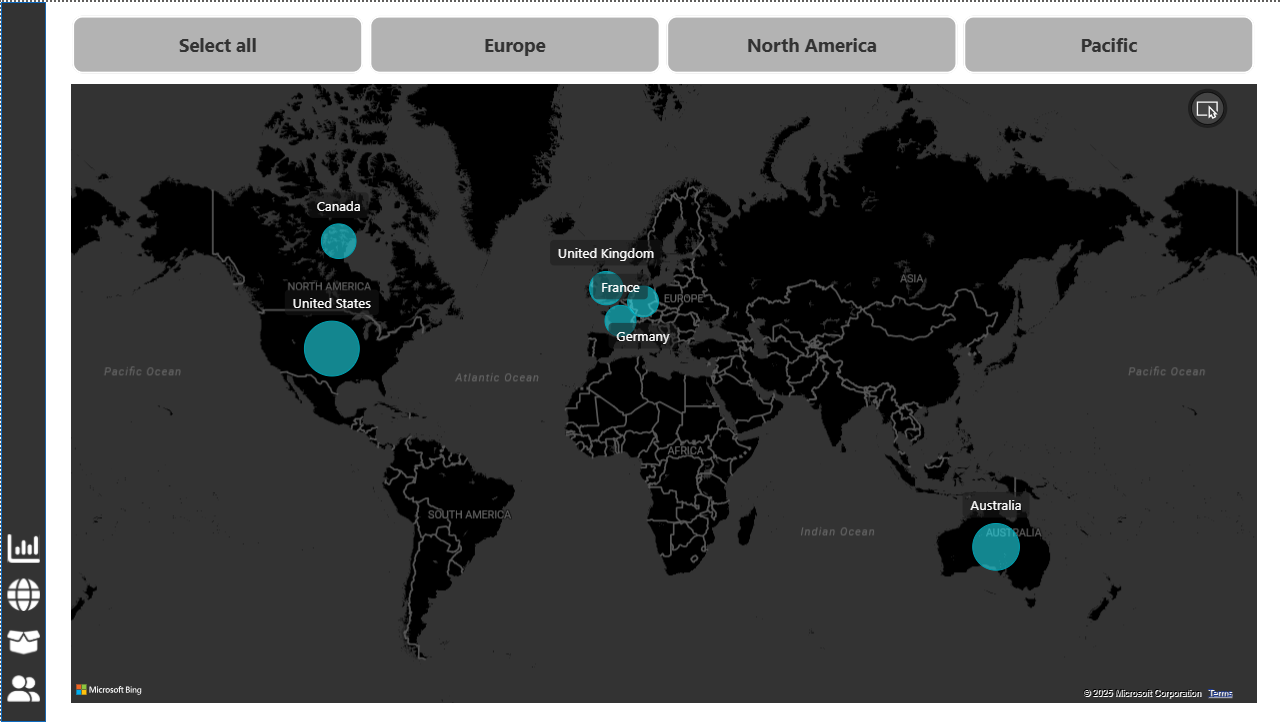

The dashboard page shown, as its layout file describes it:
{"tool":"powerbi","page":{"name":"Map","canvas":[1280,720],"ordinal":1},"visuals":[{"type":"shape","box":[0,0,45,720],"z":0},{"type":"actionButton","box":[0,526.4,45.4,40.5],"z":0,"group":"g1"},{"type":"actionButton","box":[0,573,45.4,40.5],"z":1000,"group":"g1"},{"type":"map","fields":{"Category":["Territory Lookup.Country"],"Size":["Measure Table.Total Order"]},"box":[65,77.3,1196.3,629.5],"z":1000},{"type":"advancedSlicerVisual","fields":{"Values":["Territory Lookup.Continent"]},"box":[66.3,8.6,1195.1,68.7],"z":2000},{"type":"actionButton","box":[0,619.7,45.4,40.5],"z":2000,"group":"g1"},{"type":"actionButton","box":[0,666.3,45.4,40.5],"z":3000,"group":"g1"},{"type":"group","id":"g1","title":"Navigation Buttons","box":[0,526.4,45.4,180.4],"z":3000}]}

Visuals, with their boxes on the page's 1280x720 design canvas (x1, y1, x2, y2). These are canvas units, not pixel positions in the 1281x722 screenshot, which may show the page scaled, cropped or inside an application window:
shape: (left=0, top=0, right=45, bottom=720)
actionButton: (left=0, top=526, right=45, bottom=567)
actionButton: (left=0, top=573, right=45, bottom=614)
map - Territory Lookup.Country x Measure Table.Total Order: (left=65, top=77, right=1261, bottom=707)
advancedSlicerVisual - Territory Lookup.Continent: (left=66, top=9, right=1261, bottom=77)
actionButton: (left=0, top=620, right=45, bottom=660)
actionButton: (left=0, top=666, right=45, bottom=707)
"Navigation Buttons" group: (left=0, top=526, right=45, bottom=707)
